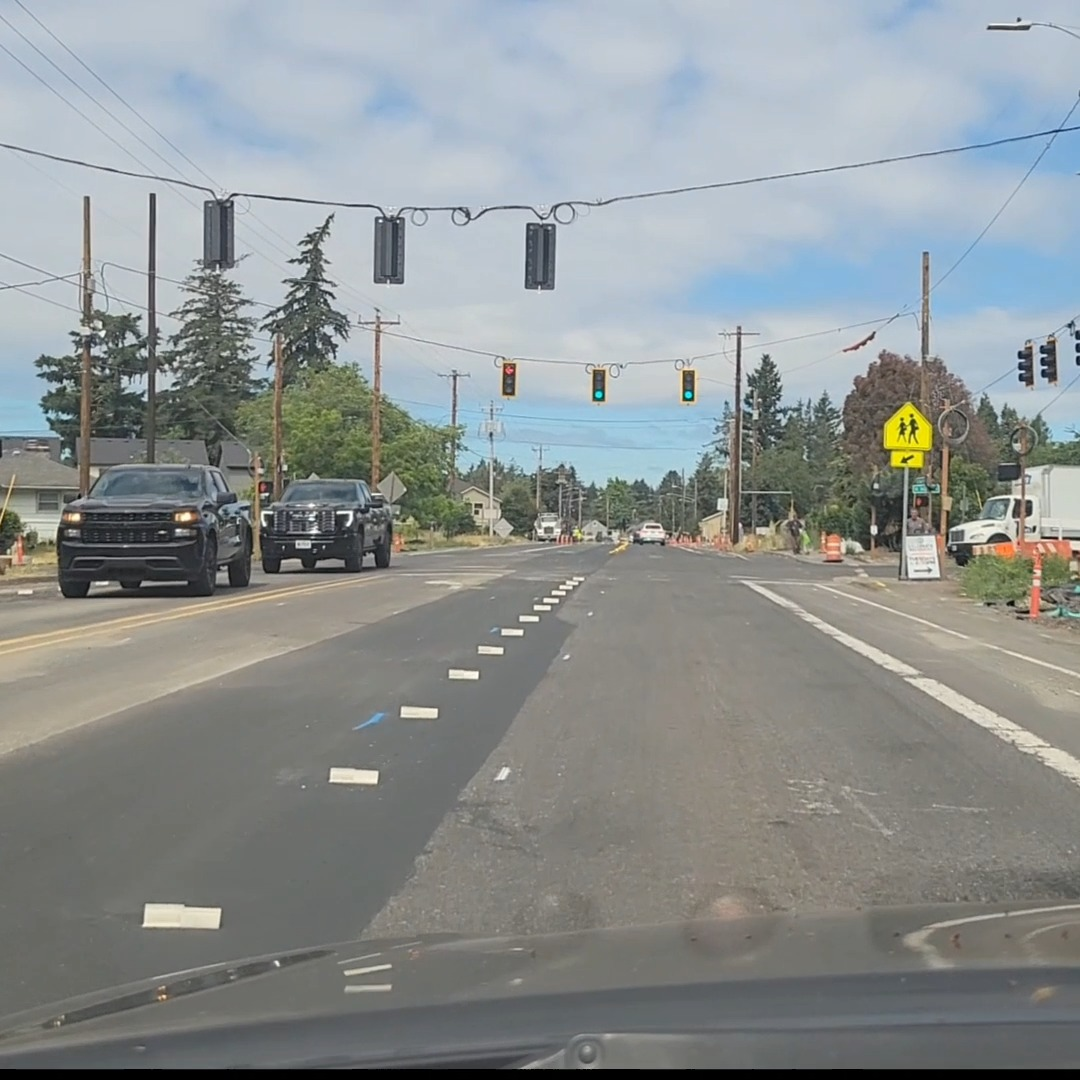car: (54, 462, 256, 597), (258, 476, 397, 573), (631, 521, 667, 545)
delineator: (1028, 552, 1042, 620), (15, 534, 25, 565)
